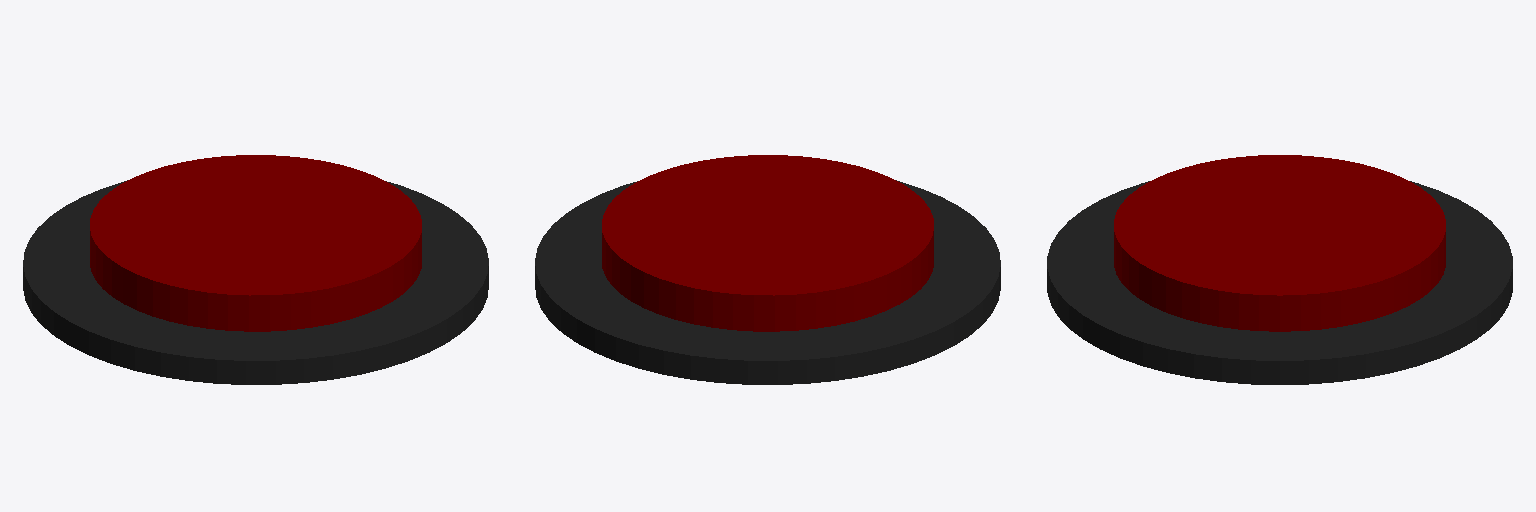
The model's file is button_red.obj.
3 renders of one model, left to right at view 1: azimuth 30°, elevation 25°; view 2: azimuth 150°, elevation 25°; view 3: azimuth 270°, elevation 25°, orthographic.
Parts seen in each view (by area): view 1: pCylinder1, pasted__pCylinder1 group; view 2: pCylinder1, pasted__pCylinder1 group; view 3: pCylinder1, pasted__pCylinder1 group.
Boxes of the visible parts, <box> form: pCylinder1: <box>90,155,421,331</box>; pasted__pCylinder1 group: <box>23,180,488,384</box>; pCylinder1: <box>602,155,933,331</box>; pasted__pCylinder1 group: <box>535,180,1000,384</box>; pCylinder1: <box>1114,155,1445,331</box>; pasted__pCylinder1 group: <box>1047,181,1512,384</box>.
Bounding box in the file's own units: 3.5 × 0.51 × 3.49.